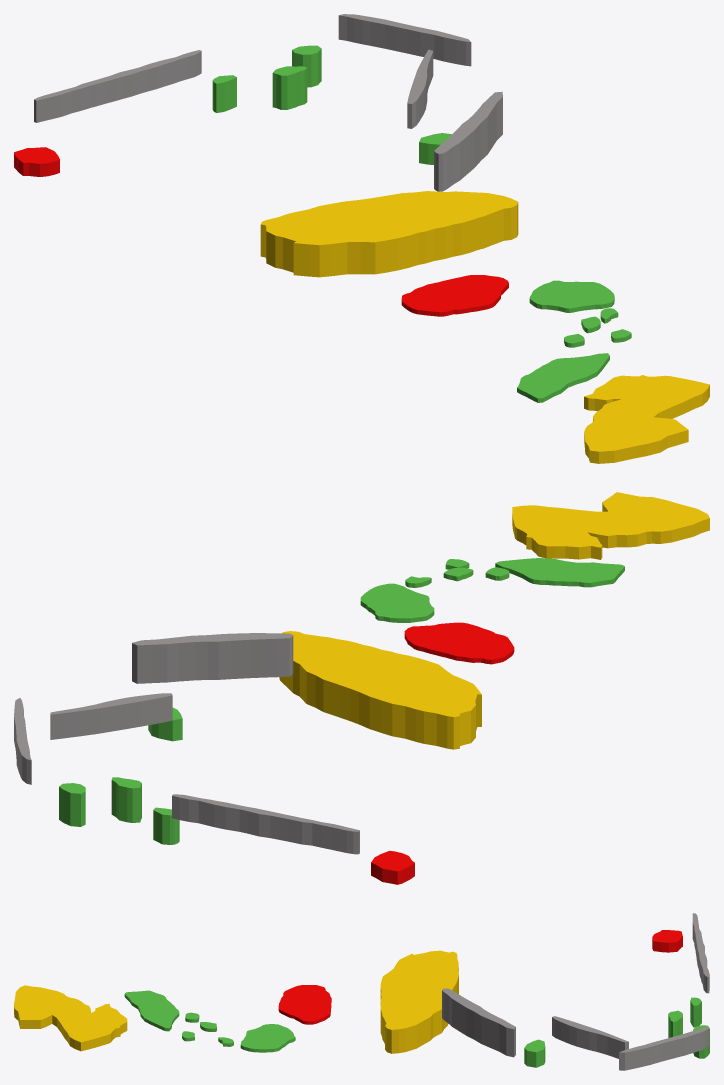
File: Beats1n2.fbx
3 views of the same model, one above another, from view 1: azimuth 30°, elevation 25°; view 2: azimuth 150°, elevation 25°; view 3: azimuth 270°, elevation 25° (orthographic). The views are drawn at different scales.
Visible parts, largest first — view 1: StartShapeBeat2Trace, StartShapeBeat1Trace, WallRun4Beat2Trace, WallRun3Beat2Trace, WallRun1Beat2Trace, EndRockBeat1, _1RockBeat1Trace, NearEndRockBeat1, _3ShapeBeat2, WallRun2Beat2Trace, EndShapreBeat2, _2ShapeBeat2 (+1 smaller); view 2: StartShapeBeat2Trace, StartShapeBeat1Trace, WallRun1Beat2Trace, WallRun4Beat2Trace, WallRun2Beat2Trace, EndRockBeat1, _1RockBeat1Trace, NearEndRockBeat1, _3ShapeBeat2, EndShapreBeat2, _2ShapeBeat2, WallRun3Beat2Trace (+2 smaller); view 3: StartShapeBeat2Trace, StartShapeBeat1Trace, WallRun1Beat2Trace, WallRun3Beat2Trace, EndRockBeat1, WallRun2Beat2Trace, _1RockBeat1Trace, NearEndRockBeat1, WallRun4Beat2Trace, EndShapreBeat2, _1ShapeBeat2, _3ShapeBeat2 (+1 smaller).
Boxes of the visible parts, box(x1,y1,x2,y2) form: StartShapeBeat2Trace: box(260, 191, 518, 277); StartShapeBeat1Trace: box(584, 375, 709, 463); WallRun4Beat2Trace: box(34, 50, 201, 122); WallRun3Beat2Trace: box(338, 14, 471, 66); WallRun1Beat2Trace: box(434, 91, 502, 191); EndRockBeat1: box(401, 275, 508, 316); _1RockBeat1Trace: box(517, 353, 609, 402); NearEndRockBeat1: box(529, 280, 614, 312); _3ShapeBeat2: box(272, 66, 307, 109); WallRun2Beat2Trace: box(407, 49, 433, 128); EndShapreBeat2: box(14, 147, 59, 176); _2ShapeBeat2: box(292, 45, 321, 87); StartShapeBeat2Trace: box(279, 631, 481, 749); StartShapeBeat1Trace: box(512, 492, 709, 559); WallRun1Beat2Trace: box(132, 633, 293, 683); WallRun4Beat2Trace: box(172, 794, 359, 854); WallRun2Beat2Trace: box(50, 693, 172, 739); EndRockBeat1: box(404, 622, 514, 664); _1RockBeat1Trace: box(495, 558, 624, 587); NearEndRockBeat1: box(360, 583, 434, 622); _3ShapeBeat2: box(111, 777, 141, 822); EndShapreBeat2: box(371, 850, 414, 884); _2ShapeBeat2: box(59, 783, 85, 826); WallRun3Beat2Trace: box(14, 698, 31, 784); StartShapeBeat2Trace: box(380, 950, 458, 1053); StartShapeBeat1Trace: box(14, 985, 127, 1051); WallRun1Beat2Trace: box(442, 988, 515, 1057); WallRun3Beat2Trace: box(619, 1026, 709, 1070); EndRockBeat1: box(278, 985, 331, 1024); WallRun2Beat2Trace: box(552, 1016, 628, 1058); _1RockBeat1Trace: box(124, 990, 179, 1031); NearEndRockBeat1: box(240, 1024, 295, 1052); WallRun4Beat2Trace: box(692, 913, 709, 993); EndShapreBeat2: box(652, 930, 682, 952); _1ShapeBeat2: box(524, 1039, 545, 1067); _3ShapeBeat2: box(668, 1010, 682, 1037).
Bounding box in the file's own units: 19720 × 3183 × 38134.
